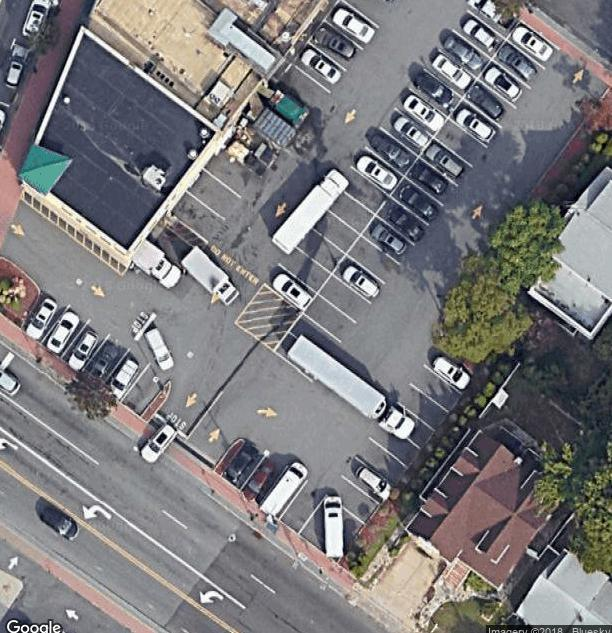parkingspot: (272, 18, 563, 386), (261, 0, 523, 315), (323, 345, 478, 527), (19, 285, 174, 419), (275, 0, 382, 116), (218, 439, 331, 537), (165, 146, 263, 246)
